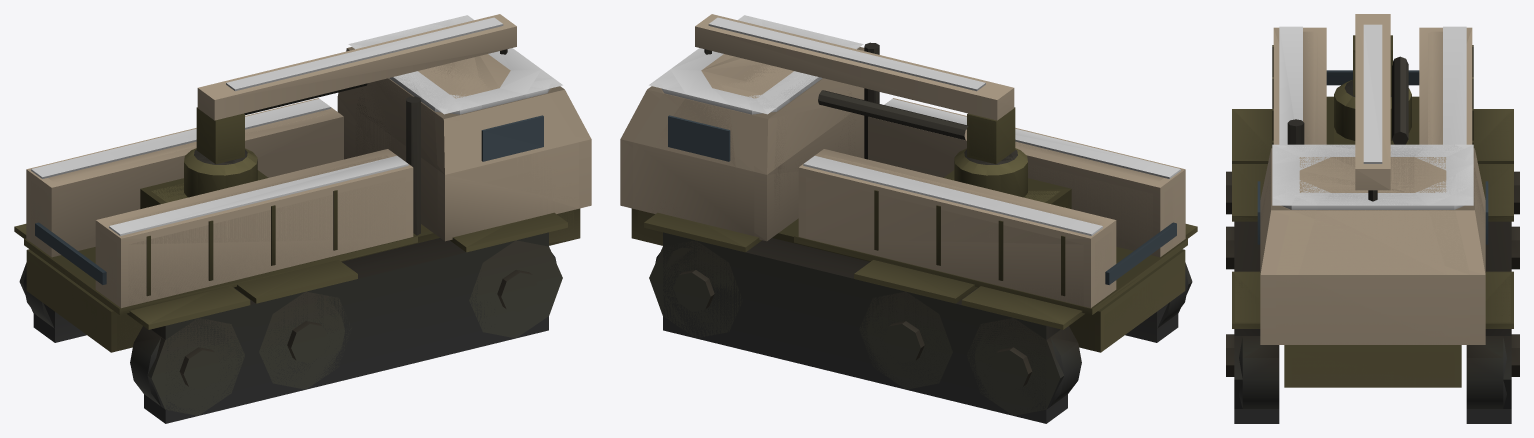
File: meridian_repair_truck.glb
3 renders of one model, left to right at view 1: azimuth 30°, elevation 25°; view 2: azimuth 150°, elevation 25°; view 3: azimuth 270°, elevation 25°, orthographic. The views are drawn at different scales.
Visible parts, largest first — view 1: hull (×3); view 2: hull (×3); view 3: hull (×3).
Boxes of the visible parts, box(x1,y1,x2,y2) form: hull (×3): box(14, 14, 591, 423); hull (×3): box(620, 14, 1197, 423); hull (×3): box(1226, 14, 1519, 423).
Bounding box in the file's own units: 4.8 × 2.52 × 2.48.
